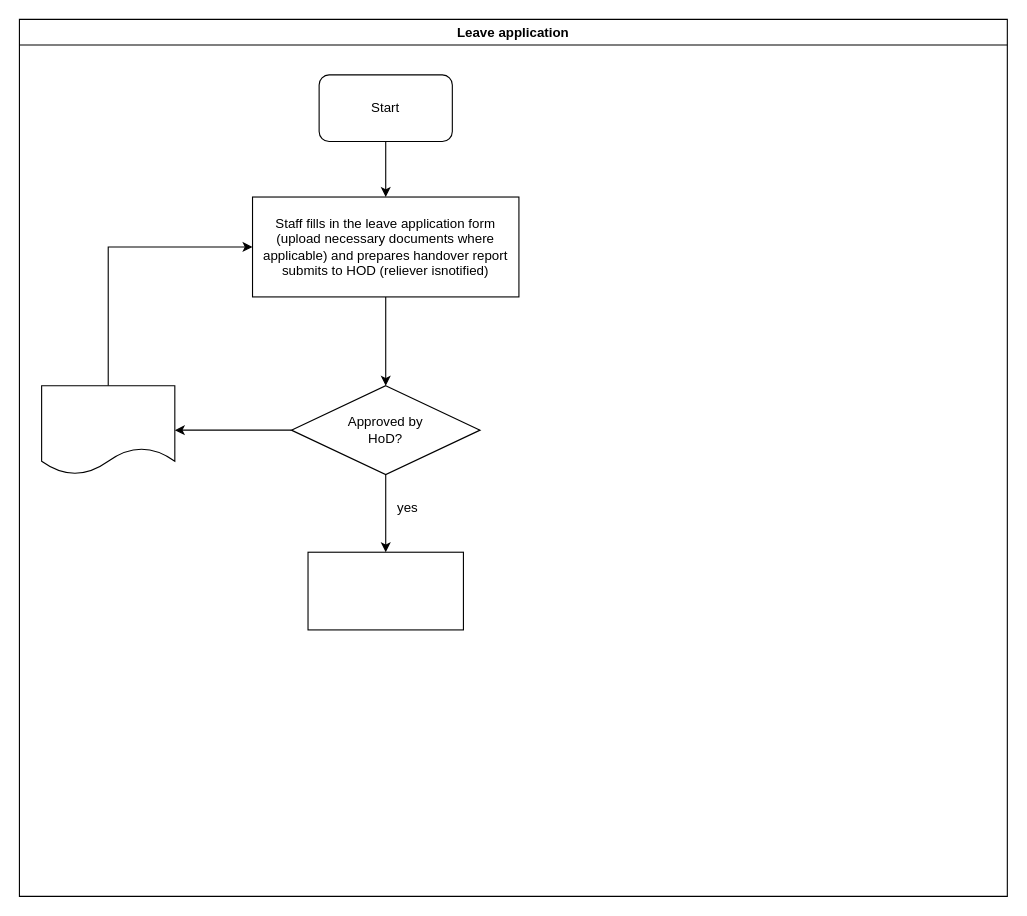
Image size: 1027x916. Some labels were removed from this diagram. Each missing label, with the box of its shape:
Comments: (41, 385, 175, 475)
Leave application is receive and acknowledged by HRM: (307, 551, 463, 630)
